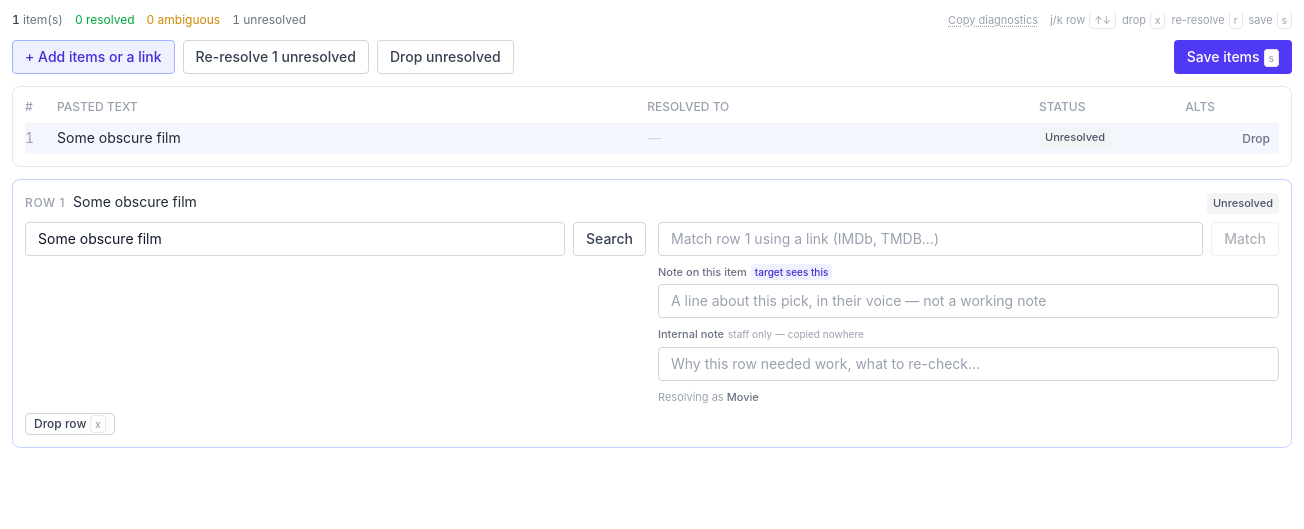
builder — adding a thing we do not hold yet › materialises a federated hit and attaches the returned thing_id
The image size is (1304, 529).
Replace the text in the field with placeholder "Search catalogue — “Some obscure film”" with "Obscure Film" at (295, 238), box [25, 222, 565, 256]
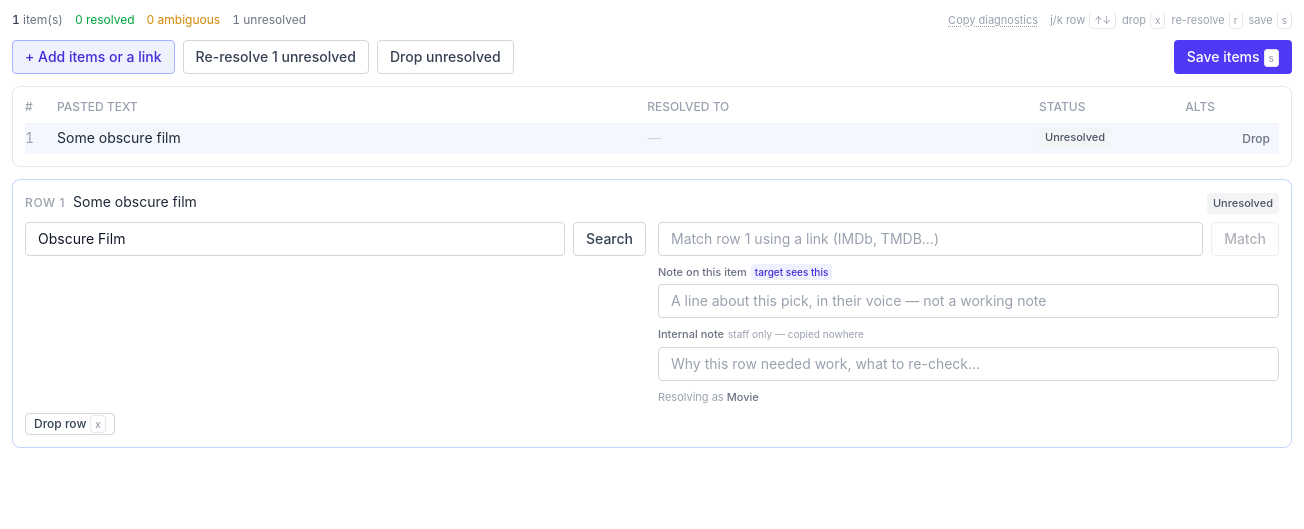
Click the button "Search" at (610, 238), box [573, 222, 646, 256]
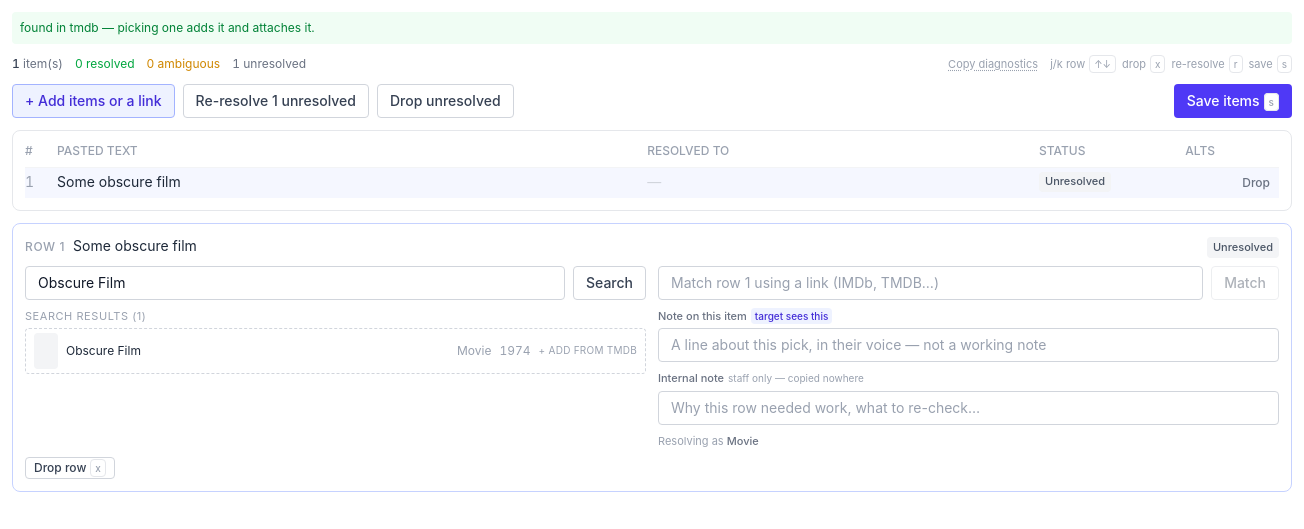
Click the button titled "Not in the registry yet" at (103, 350), box [25, 328, 646, 374]
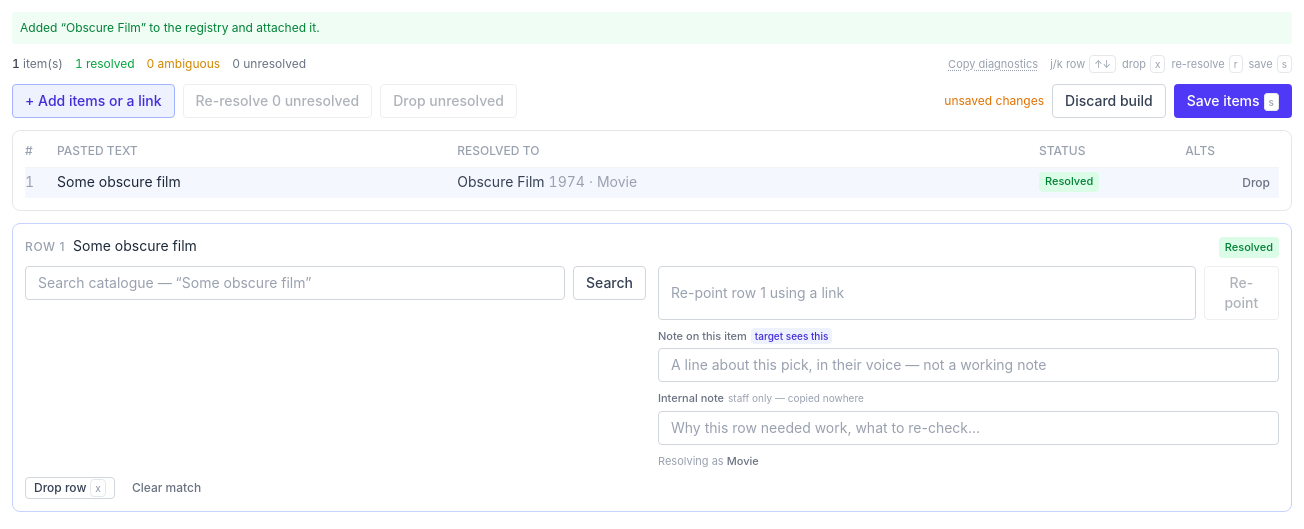
expect the text "Resolved" in the row of "1974" is shown: met, box [1045, 174, 1093, 188]
expect the text "Added “Obscure Film” to the registry and attached it." is shown: met, box [12, 12, 1292, 44]
